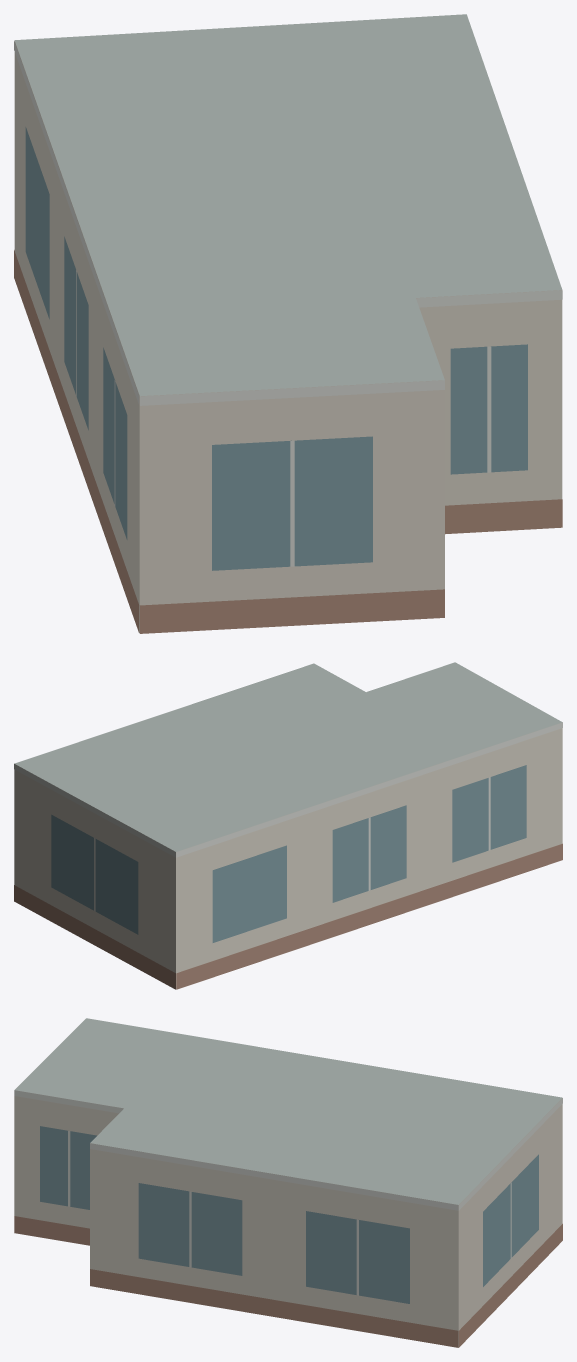
File: survey-upis-32979819.glb
3 views of the same model, one above another, from view 1: azimuth 30°, elevation 25°; view 2: azimuth 150°, elevation 25°; view 3: azimuth 270°, elevation 25° (orthographic). The views are drawn at different scales.
Parts seen in each view (by area): view 1: survey-upis-32979819.tmp; view 2: survey-upis-32979819.tmp; view 3: survey-upis-32979819.tmp.
Part boxes in pixels (bbox=[...]): survey-upis-32979819.tmp: bbox=[14, 14, 562, 633]; survey-upis-32979819.tmp: bbox=[14, 662, 562, 989]; survey-upis-32979819.tmp: bbox=[14, 1018, 562, 1347].
Size of the model in its own units: 8.57 by 3.05 by 10.62.
